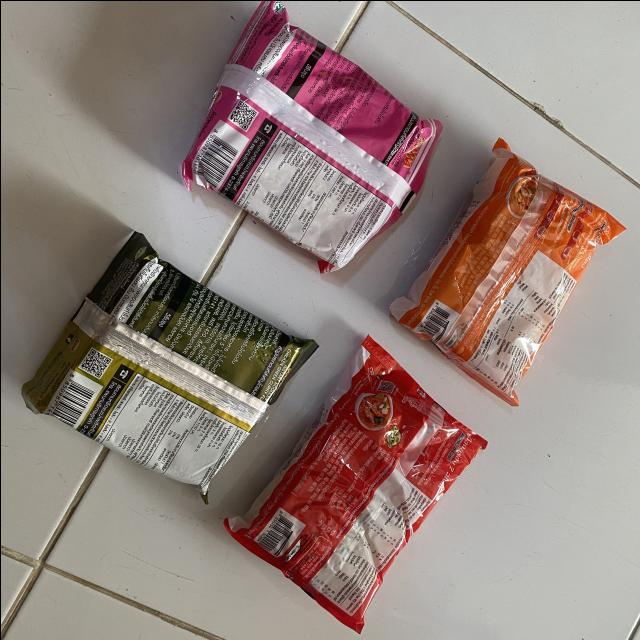plastik: (21, 231, 316, 501), (223, 335, 486, 632), (182, 0, 441, 271), (389, 138, 624, 405)
